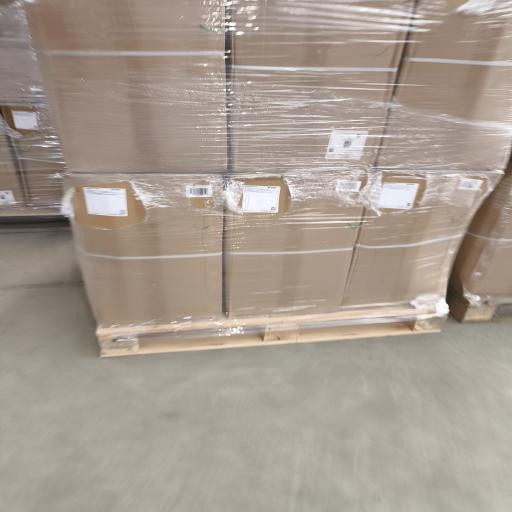pallet: (97, 308, 446, 356), (448, 289, 511, 322), (0, 207, 70, 233), (0, 207, 63, 219)
